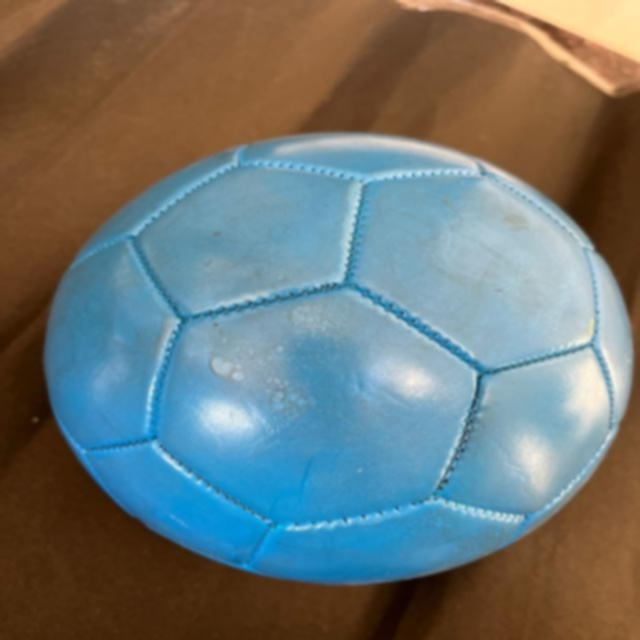blue_ball: (27, 114, 640, 594)
